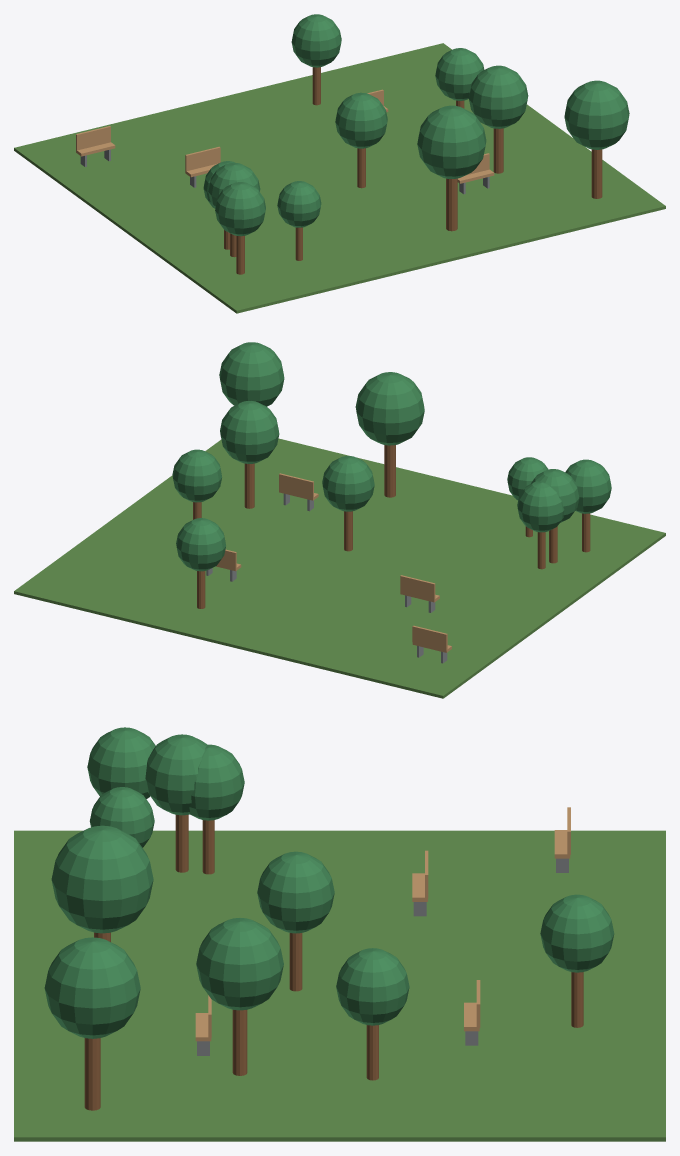
File: Park_009.glb
The picture shows the model from 3 angles, top to bottom: view 1: azimuth 30°, elevation 25°; view 2: azimuth 150°, elevation 25°; view 3: azimuth 270°, elevation 25°; orthographic projection. The views are drawn at different scales.
Visible parts, largest first — view 1: Park_009; view 2: Park_009; view 3: Park_009.
Part boxes in pixels (x1,y1,x2,y2): Park_009: (14,14,665,313); Park_009: (14,342,665,698); Park_009: (14,727,665,1141).
Bounding box in the file's own units: 25.22 × 6.91 × 22.66.
